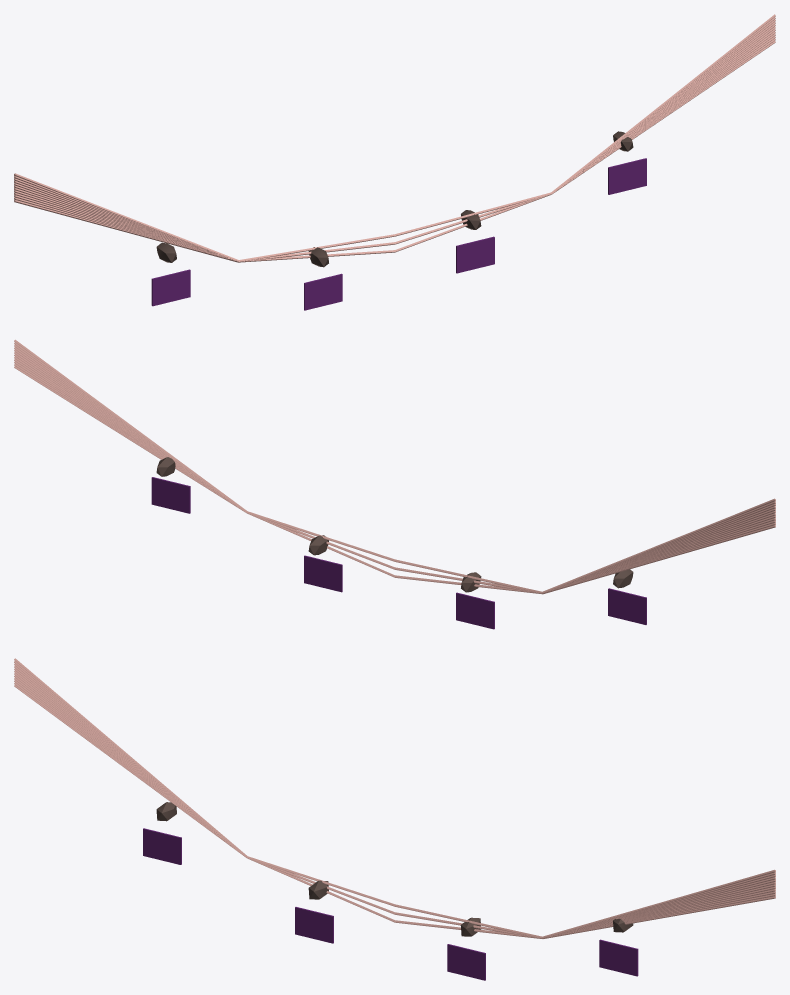
The model's file is tail_knot.glb.
The picture shows the model from 3 angles, top to bottom: view 1: azimuth 30°, elevation 25°; view 2: azimuth 150°, elevation 25°; view 3: azimuth 330°, elevation 25°; orthographic projection.
Visible parts, largest first — view 1: tail_knot; view 2: tail_knot; view 3: tail_knot.
Part boxes in pixels (x1,y1,x2,y2): tail_knot: (14, 14, 775, 310); tail_knot: (14, 339, 775, 629); tail_knot: (14, 658, 775, 980).
Size of the model in its own units: 10.02 by 2.55 by 0.3317.
